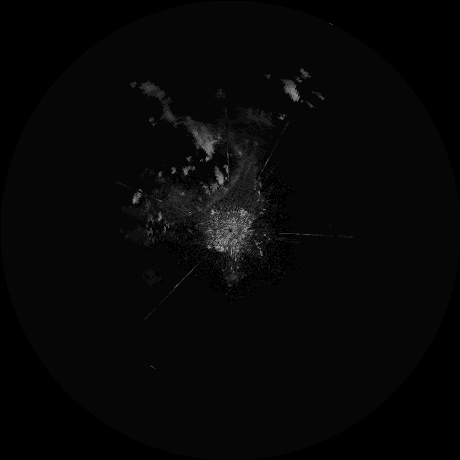frontgust: (206, 163, 244, 210)
